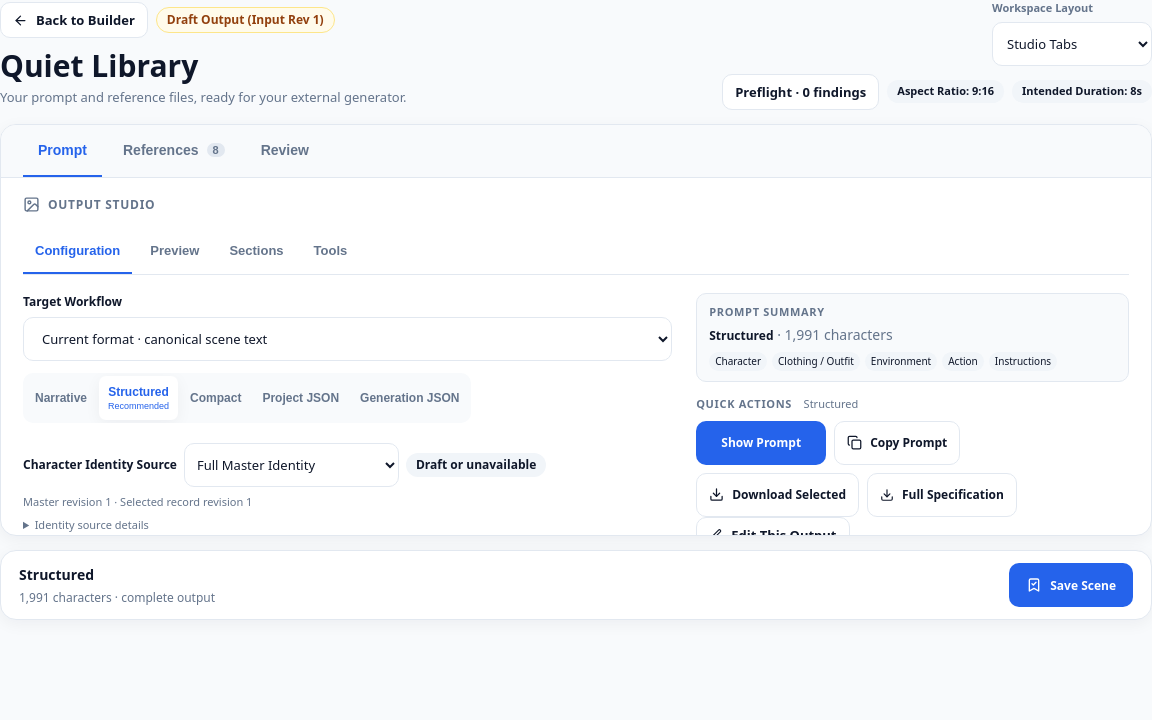
it: Prompt Output studio workspace › keeps the manual clipboard fallback operable when copy is blocked in the prompt viewer
Expected: the heading "Quiet Library" is shown, [0, 45, 198, 86]
Click the button "Show Prompt" at (761, 442), box [696, 420, 826, 464]
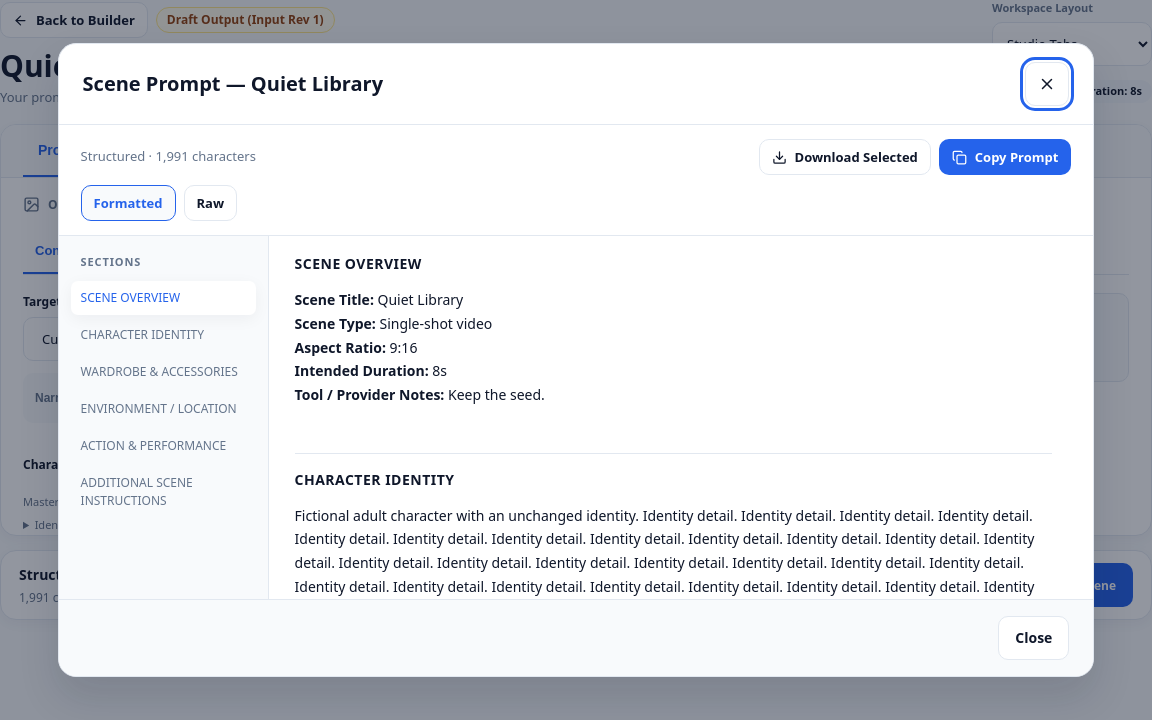
Click the button "Copy Prompt" at (1005, 157), box [939, 139, 1071, 175]
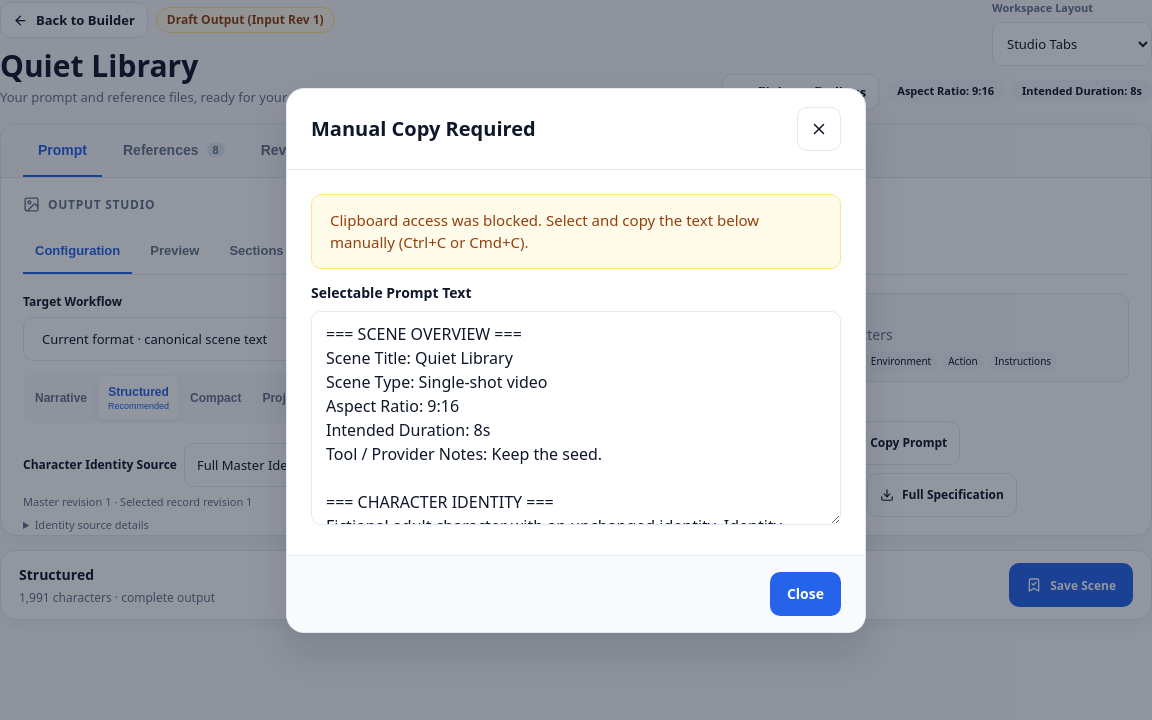
Expected: the number of dialogs is 1
Click the button "Close" at (805, 594), box [770, 572, 841, 616]
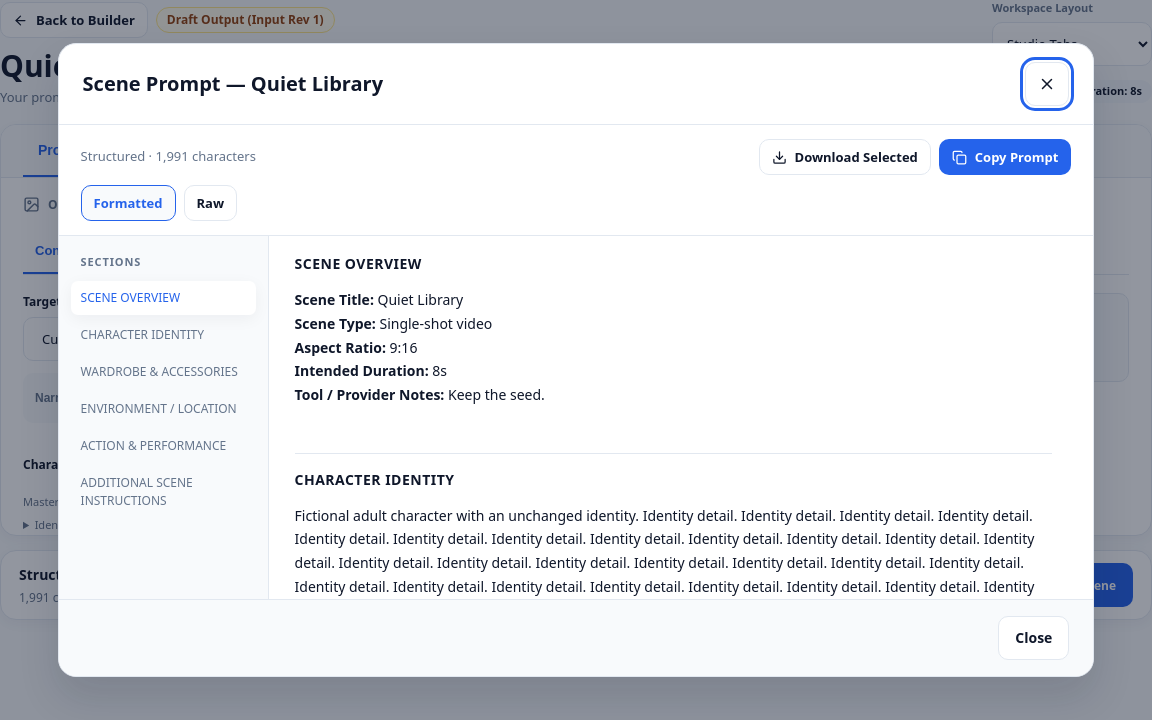
Expected: the dialog "Scene Prompt" is shown
